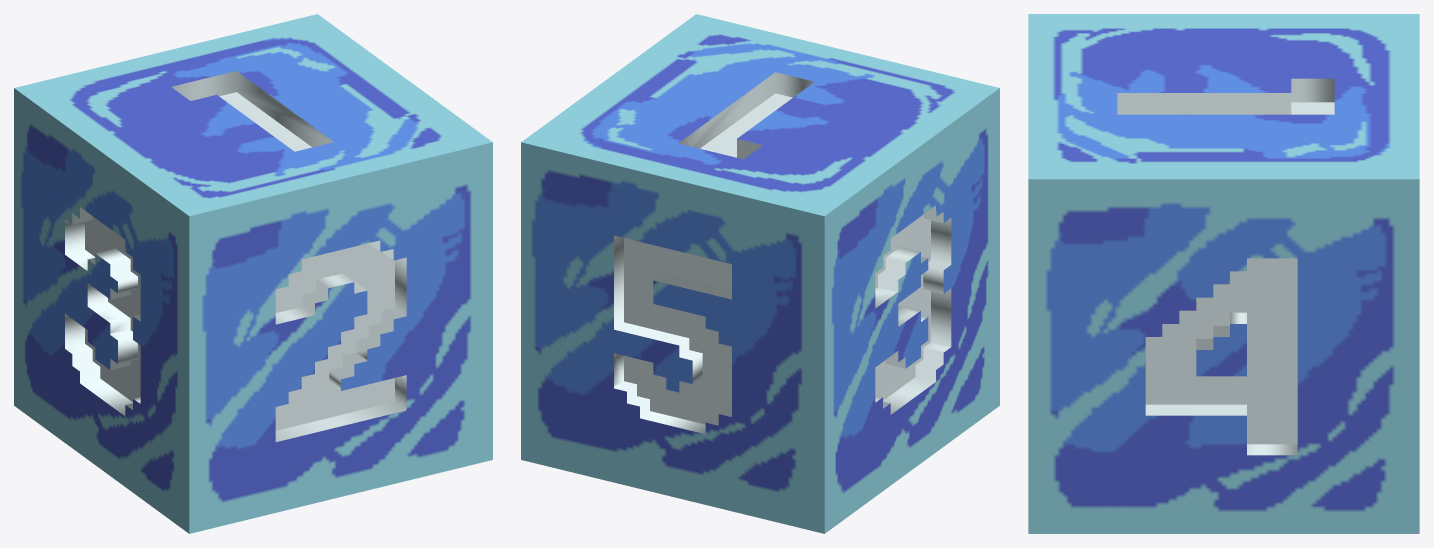
File: d6Numbered.fbx
3 views of the same model, side by side, from view 1: azimuth 30°, elevation 25°; view 2: azimuth 150°, elevation 25°; view 3: azimuth 270°, elevation 25° (orthographic). The views are drawn at different scales.
Parts seen in each view (by area): view 1: NEW d6; view 2: NEW d6; view 3: NEW d6.
Part boxes in pixels (bbox=[...]): NEW d6: bbox=[14, 14, 492, 533]; NEW d6: bbox=[521, 14, 999, 533]; NEW d6: bbox=[1028, 14, 1419, 533].
Bounding box in the file's own units: 1500 × 1500 × 1500.
2 materials, 1 textured.
